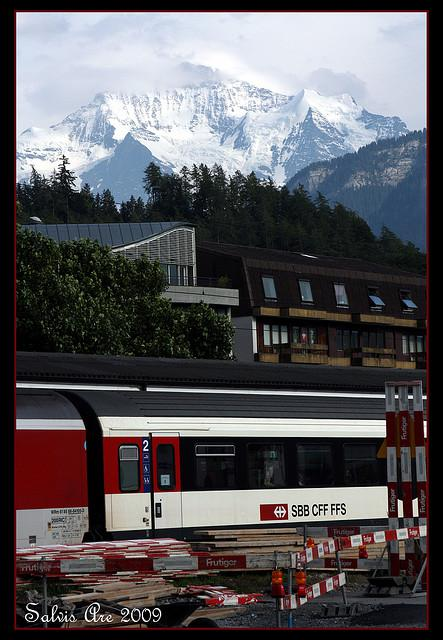Train: (11, 384, 389, 551)
